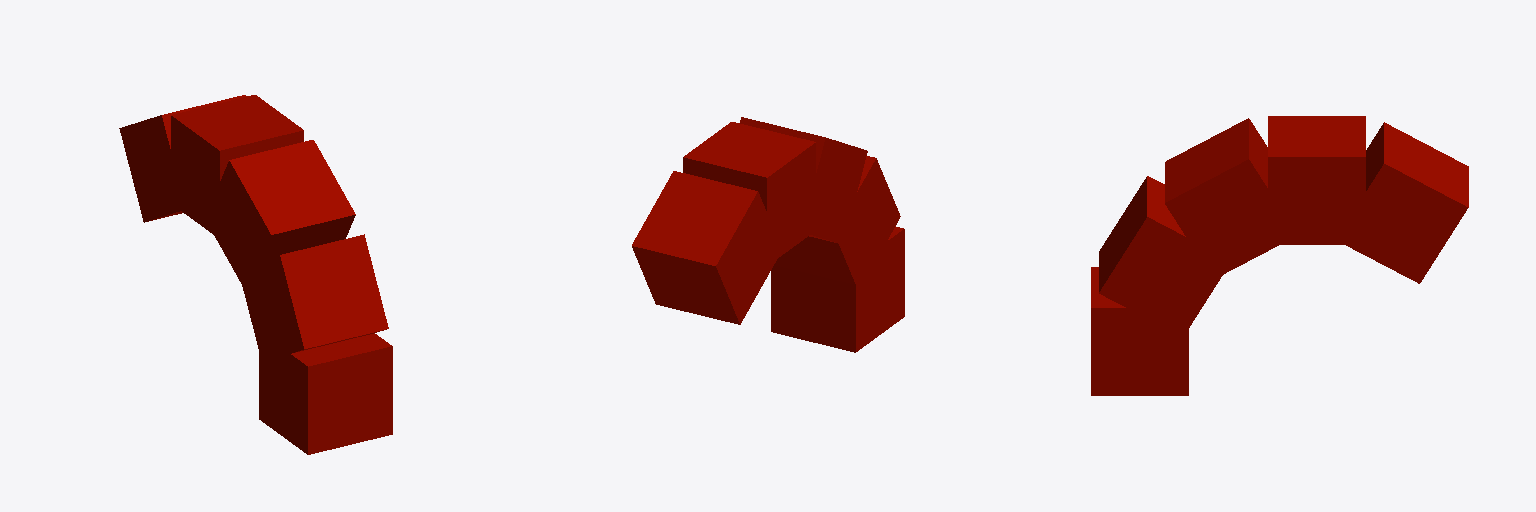
File: animate2.obj
The picture shows the model from 3 angles: view 1: azimuth 30°, elevation 25°; view 2: azimuth 150°, elevation 25°; view 3: azimuth 270°, elevation 25°; orthographic projection.
Parts seen in each view (by area): view 1: Cube, Cube.001, Cube.002, Cube.003, Cube.004; view 2: Cube.004, Cube, Cube.003, Cube.001, Cube.002; view 3: Cube.004, Cube.002, Cube.003, Cube.001, Cube.
Boxes of the visible parts, box(x1,y1,x2,y2) form: Cube: box(259, 331, 392, 454); Cube.001: box(238, 234, 388, 362); Cube.002: box(210, 140, 355, 286); Cube.003: box(171, 95, 303, 238); Cube.004: box(119, 95, 246, 222); Cube.004: box(632, 171, 781, 324); Cube: box(771, 226, 904, 352); Cube.003: box(683, 122, 815, 265); Cube.001: box(774, 156, 900, 289); Cube.002: box(740, 117, 867, 244); Cube.004: box(1336, 122, 1468, 283); Cube.002: box(1165, 118, 1297, 277); Cube.003: box(1268, 116, 1365, 244); Cube.001: box(1099, 176, 1231, 336); Cube: box(1091, 267, 1188, 395).
Size of the model in its own units: 2 by 5.42 by 7.73.